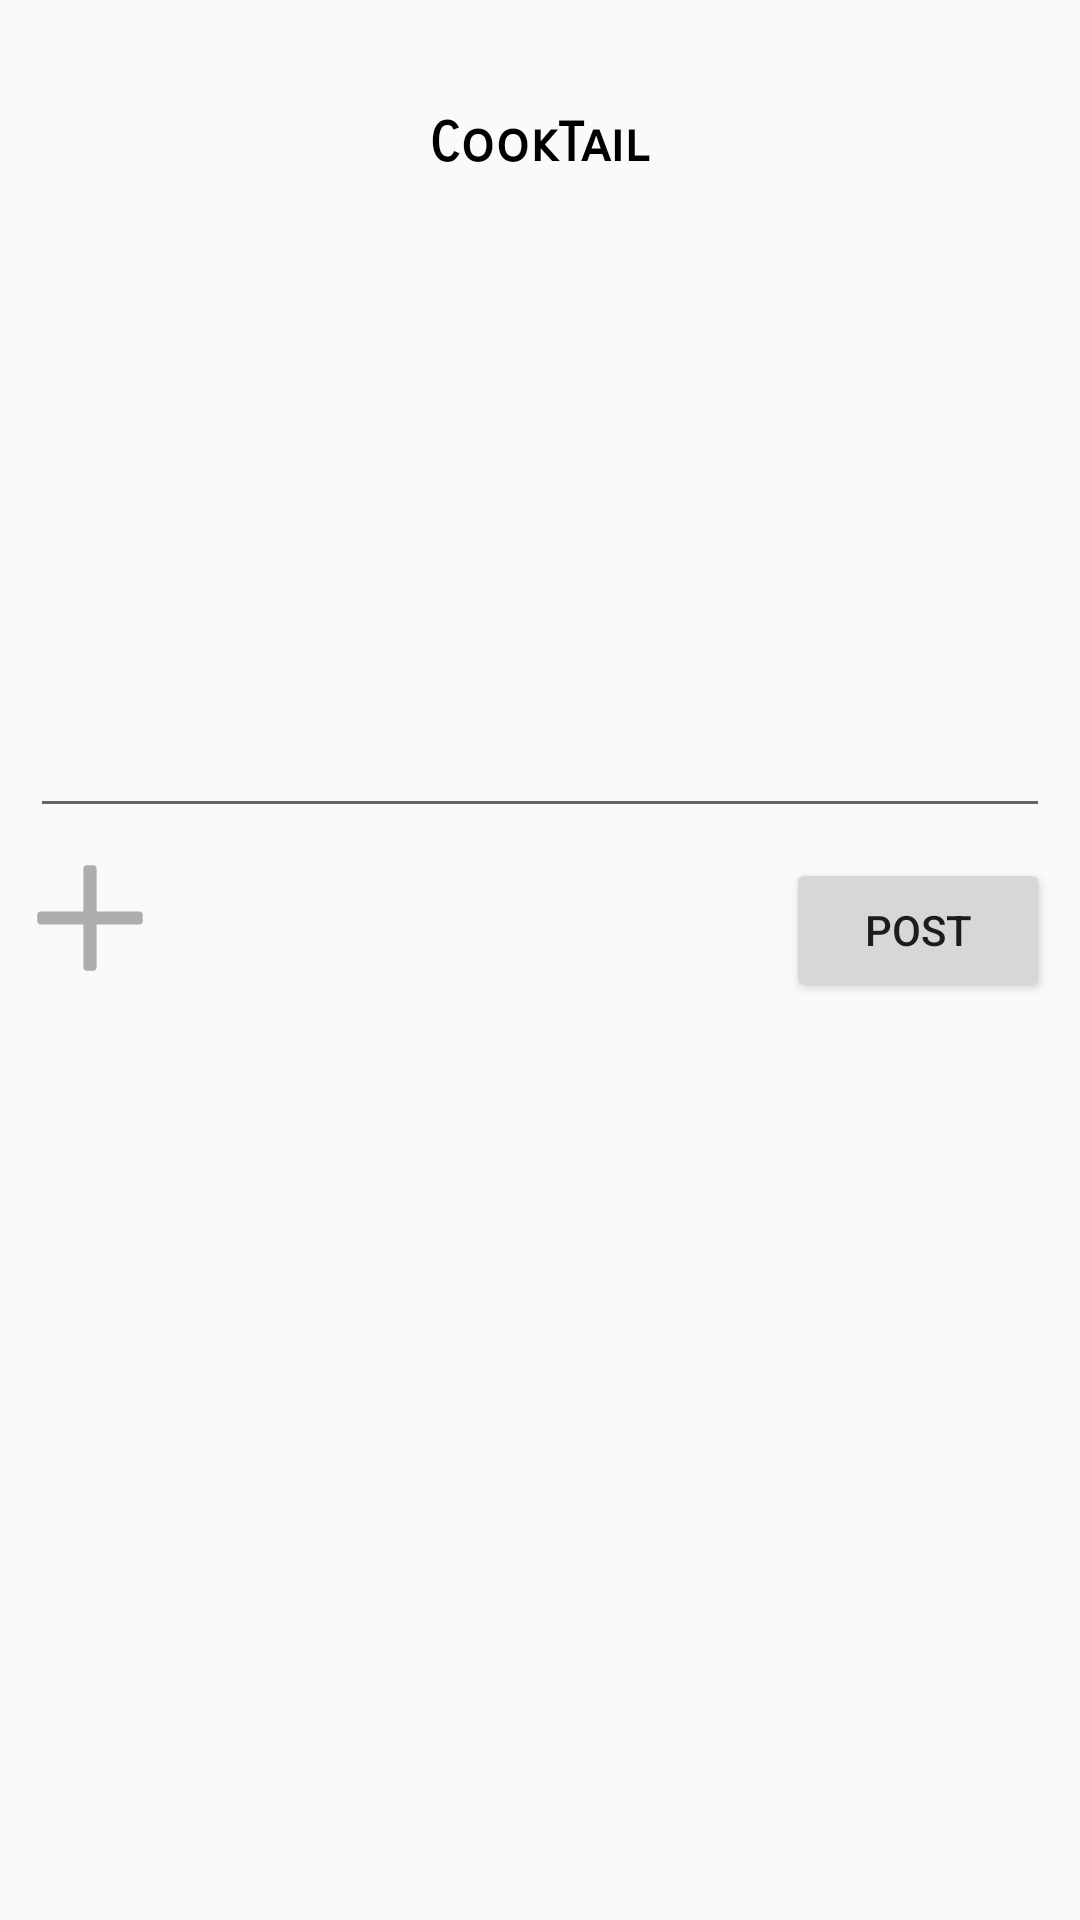

Named icons in this screenshot (1080px x 1920px) and their bounding boxes, box(x1, y1, x2, y2):
create: box(37, 865, 143, 971)
